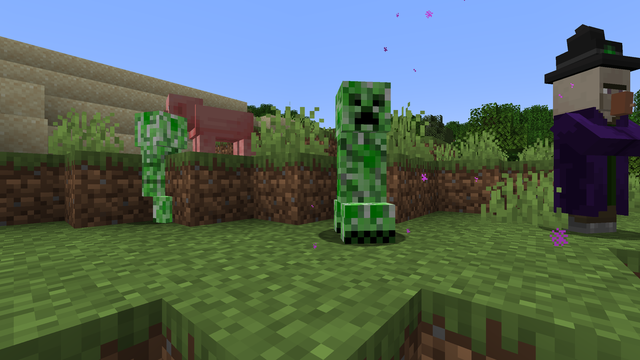cochons: (197, 101, 255, 151)
creepers: (323, 66, 397, 243), (133, 103, 189, 223)
sorcieres: (554, 53, 634, 238)
